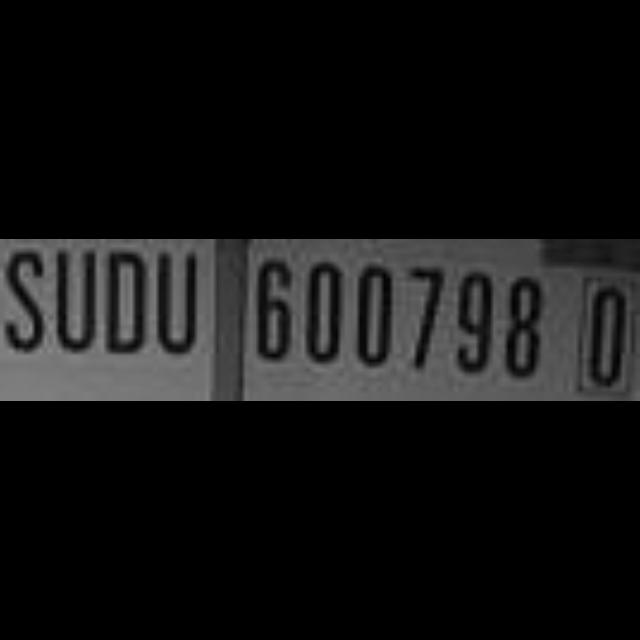0: (573, 272, 639, 398), (354, 254, 401, 378), (302, 248, 348, 374)
6: (252, 242, 298, 374)
7: (404, 254, 450, 378)
8: (502, 260, 548, 386)
9: (452, 261, 500, 381)
d: (104, 240, 152, 364)
s: (0, 240, 50, 364)
u: (148, 239, 200, 363), (49, 239, 101, 361)
